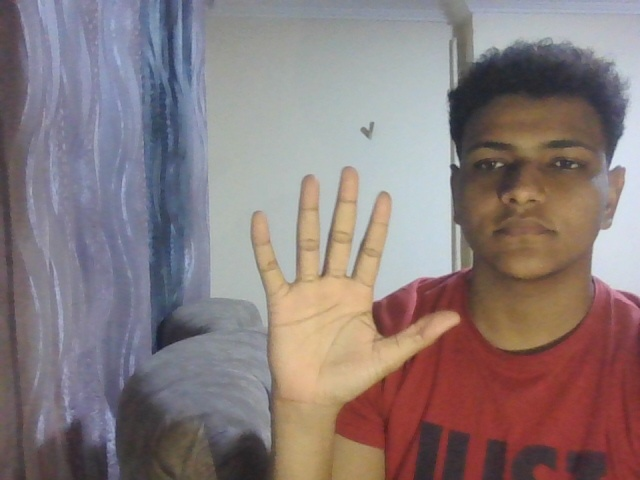Hello: (247, 163, 463, 405)
